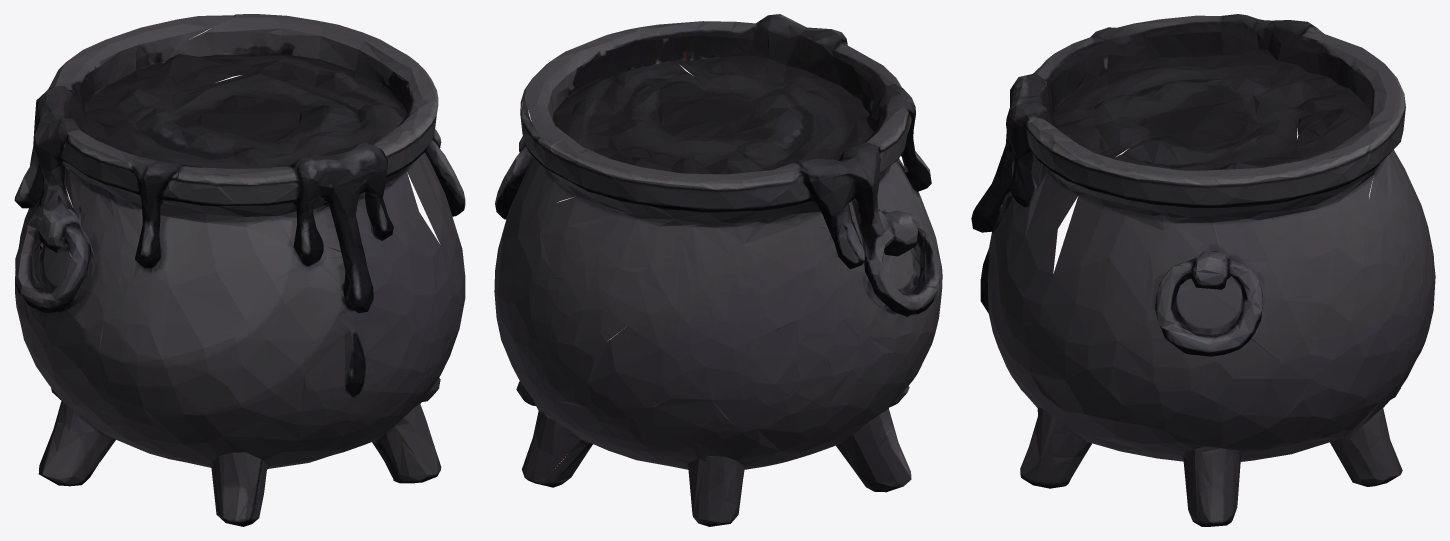
Rendered from cauldron_black.glb.
3 renders of one model, left to right at view 1: azimuth 30°, elevation 25°; view 2: azimuth 150°, elevation 25°; view 3: azimuth 270°, elevation 25°, orthographic.
Parts seen in each view (by area): view 1: geometry_0; view 2: geometry_0; view 3: geometry_0.
Boxes of the visible parts, x1,y1,x2,y2 form: geometry_0: (14, 14, 465, 526); geometry_0: (494, 14, 942, 526); geometry_0: (971, 14, 1435, 526).
Size of the model in its own units: 1 by 0.8063 by 0.9574.
1 material, 1 textured.
